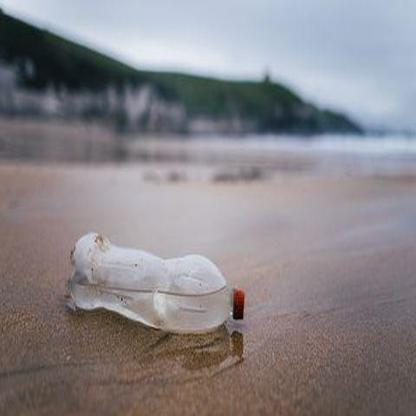plastic bottle: (68, 232, 245, 328)
